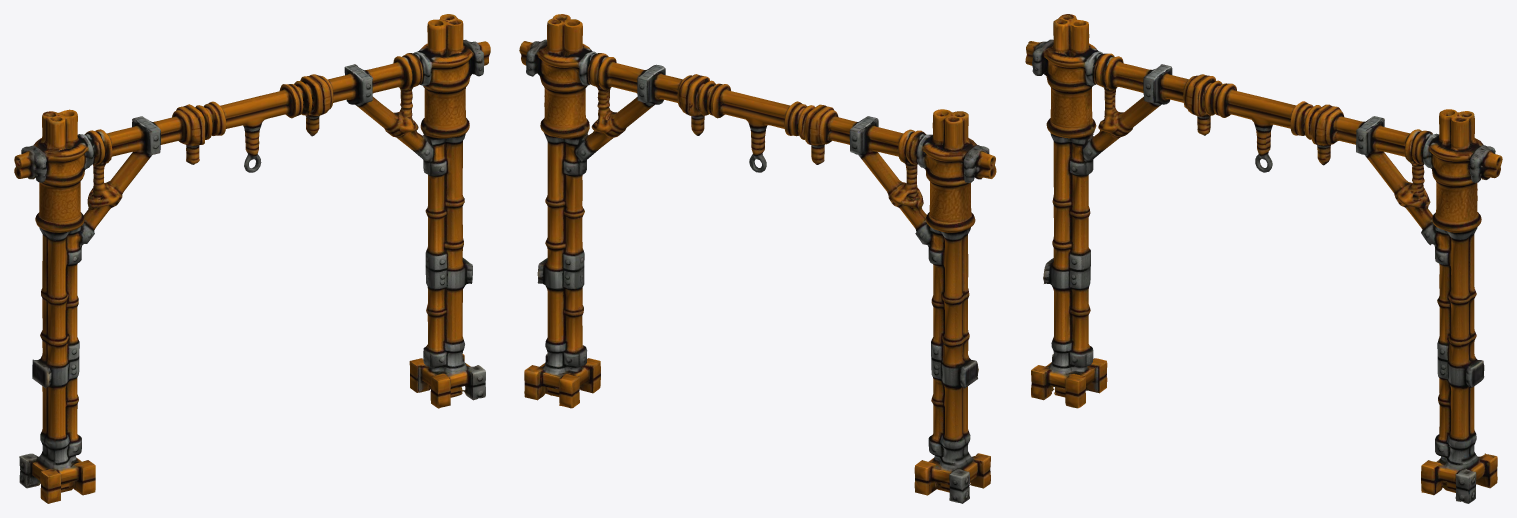
Rendered from GateTavern.glb.
3 views of the same model, side by side, from view 1: azimuth 30°, elevation 25°; view 2: azimuth 150°, elevation 25°; view 3: azimuth 330°, elevation 25° (orthographic).
Bounding box in the file's own units: 1.91 × 1.45 × 0.2181.
Materials: 1 (1 with a texture image).
